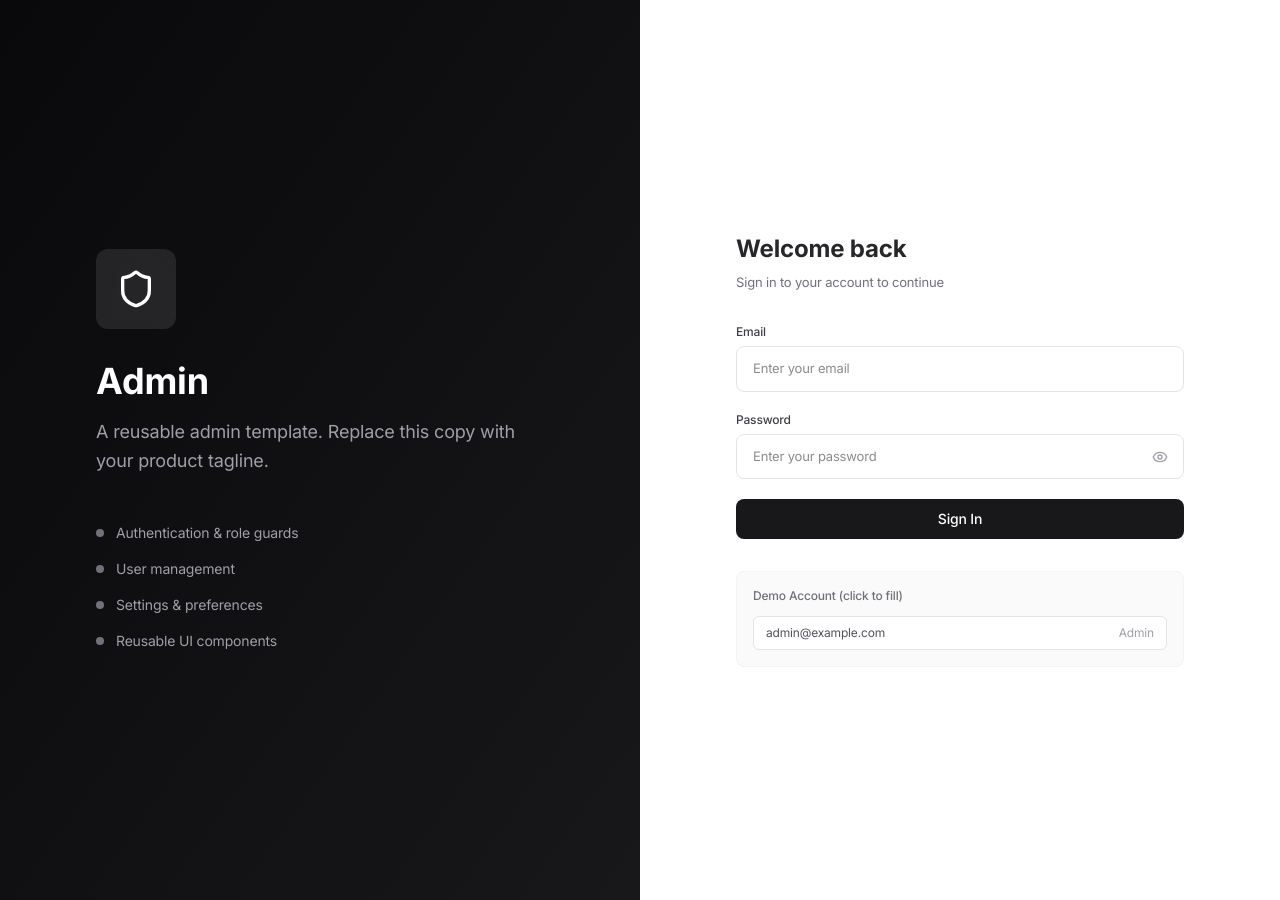
LoginPage › demo account button fills the form
Click the button "admin@example.com Admin": (826, 633) x1=753 y1=616 x2=1167 y2=650
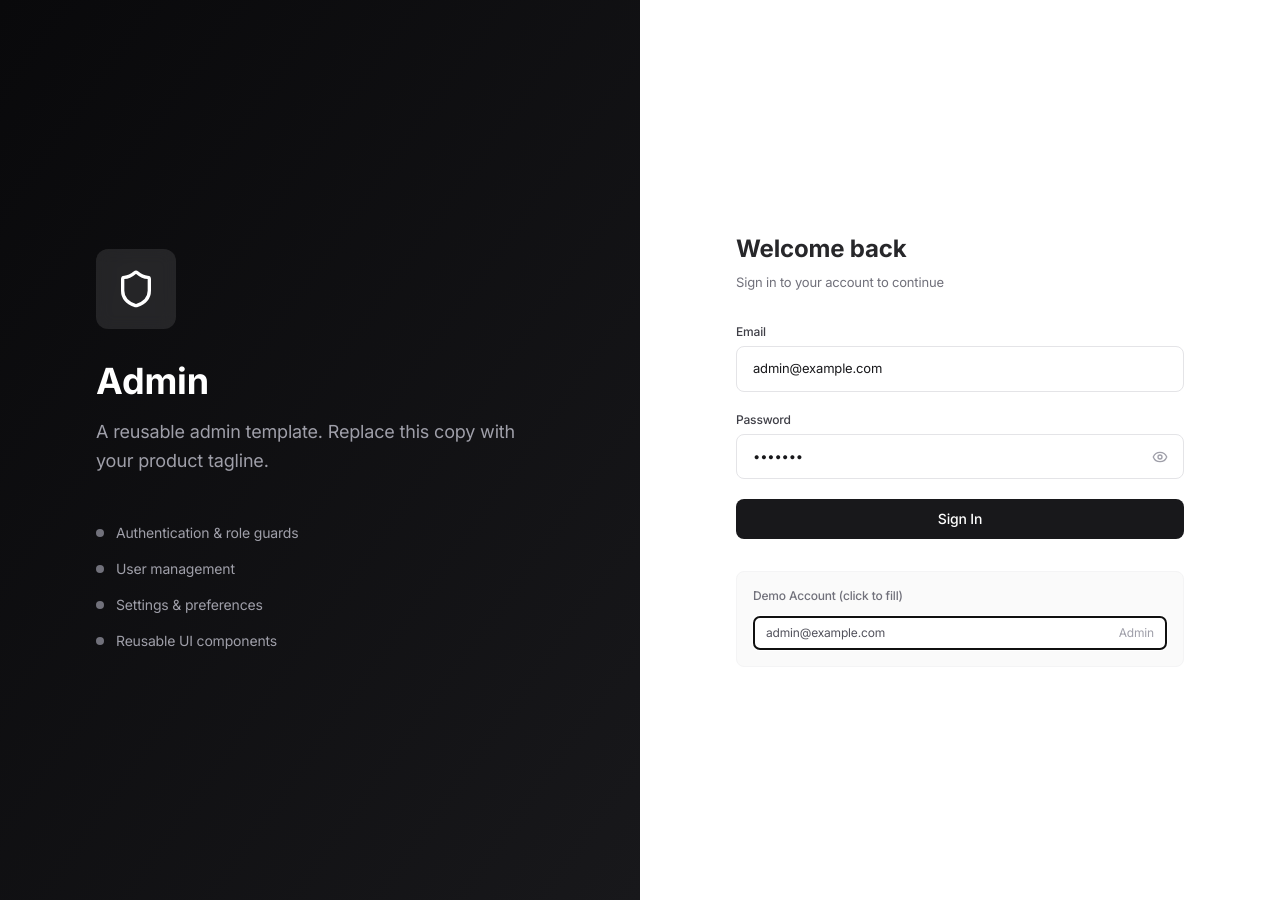
Expected: the field with placeholder "Enter your email" holds "admin@example.com", x1=736 y1=346 x2=1184 y2=392
Expected: the password field with placeholder "Enter your password" holds "demo123", x1=736 y1=434 x2=1184 y2=479
